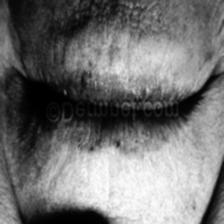Unclassified: (76, 58, 100, 92), (110, 130, 128, 154), (83, 146, 97, 158)
